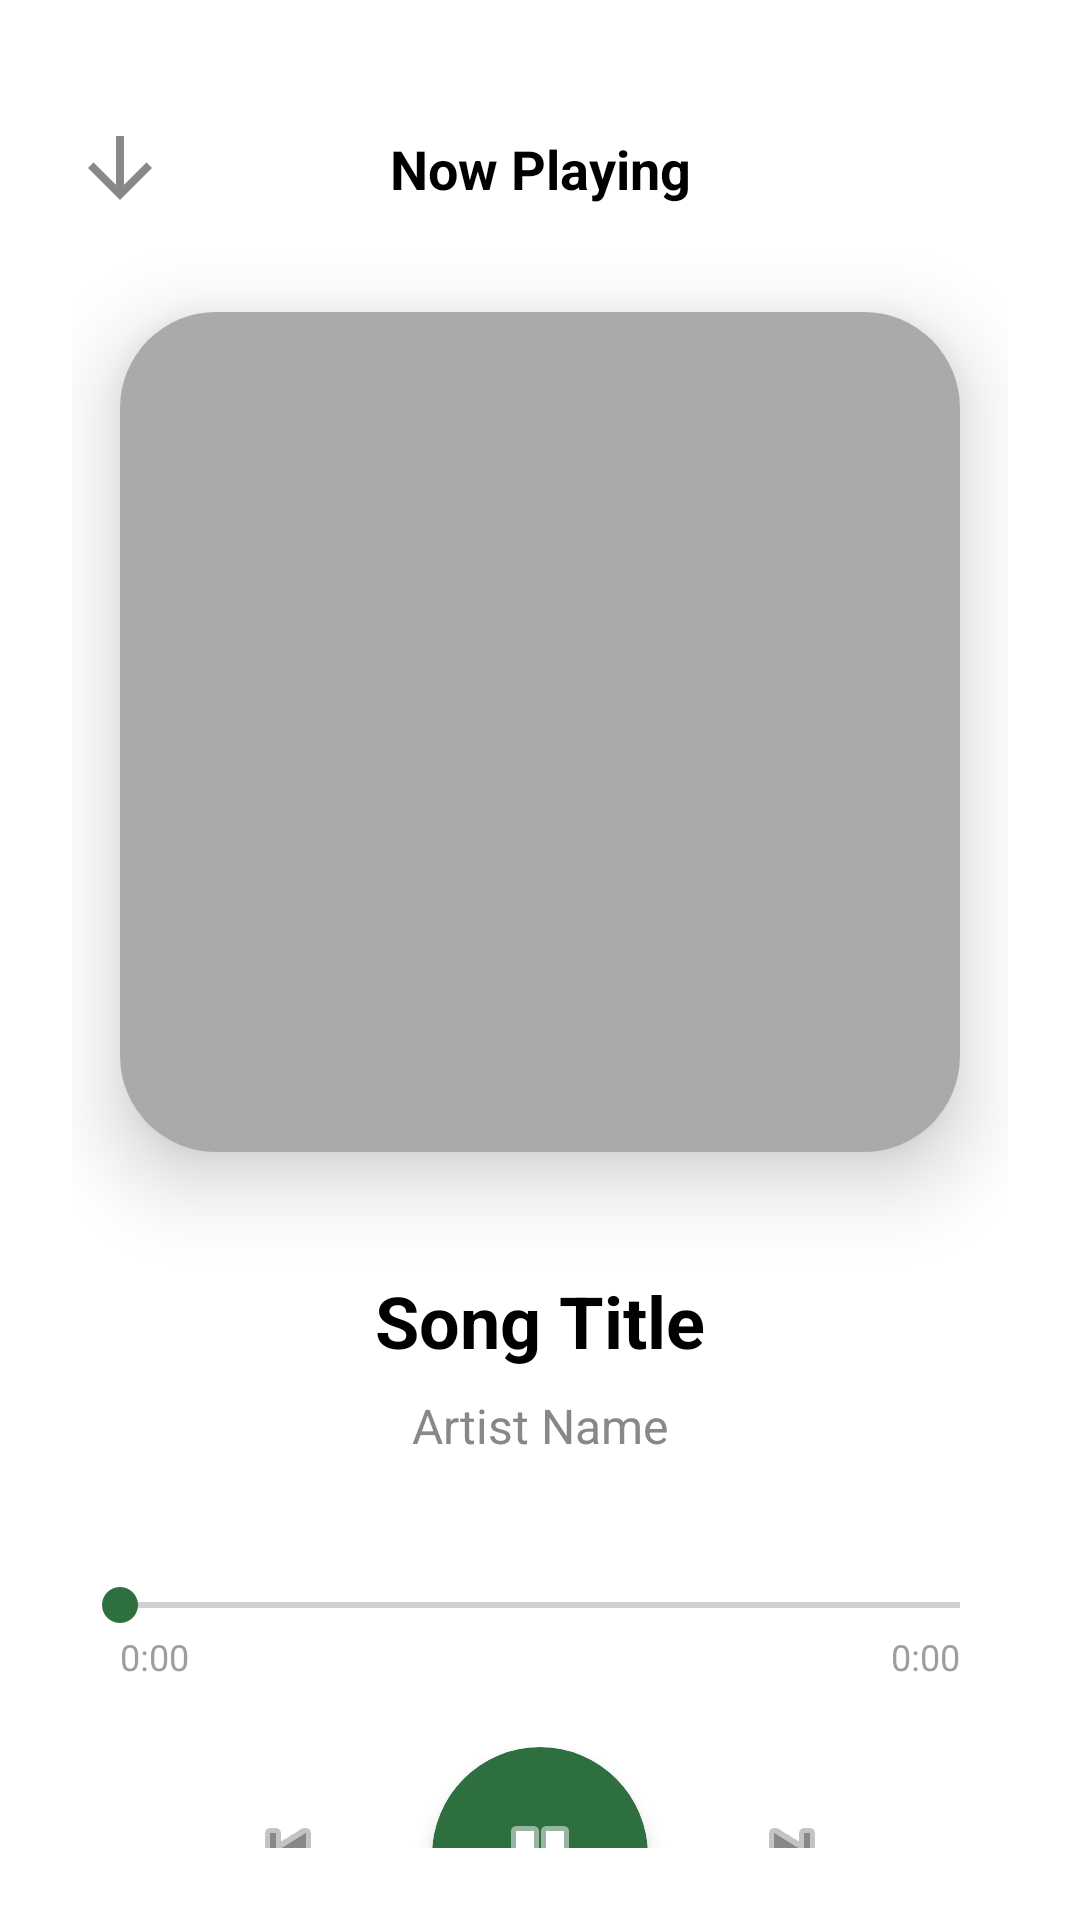

Where icons sit on this 1080×1920 app screen, as BBox(x1, y1, x2, y2):
next: BBox(769, 1828, 815, 1848)
previous: BBox(265, 1828, 311, 1848)
